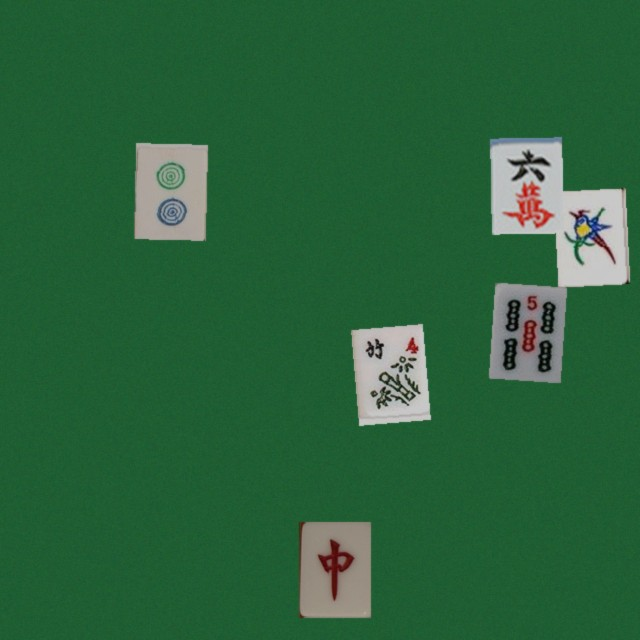tile: (553, 188, 625, 284), (488, 282, 560, 378), (133, 143, 205, 239), (298, 521, 370, 617), (351, 324, 423, 420), (490, 137, 562, 233)
